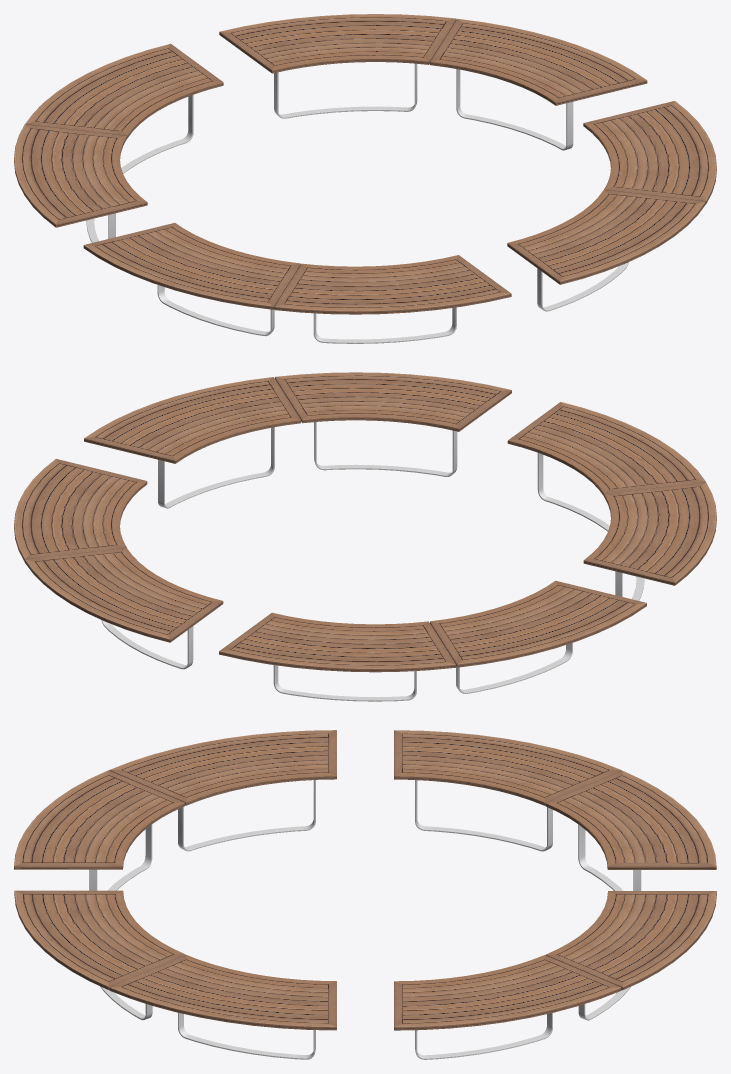
Rendered from round-table.fbx.
3 views of the same model, one above another, from view 1: azimuth 30°, elevation 25°; view 2: azimuth 150°, elevation 25°; view 3: azimuth 270°, elevation 25° (orthographic). The views are drawn at different scales.
Visible parts, largest first — view 1: Cylinder.002; view 2: Cylinder.002; view 3: Cylinder.002.
Part boxes in pixels (x1,y1,x2,y2): Cylinder.002: (14,14,716,343); Cylinder.002: (14,372,716,701); Cylinder.002: (14,730,716,1059).
Bounding box in the file's own units: 911 × 93.16 × 911.
2 materials, 1 textured.
